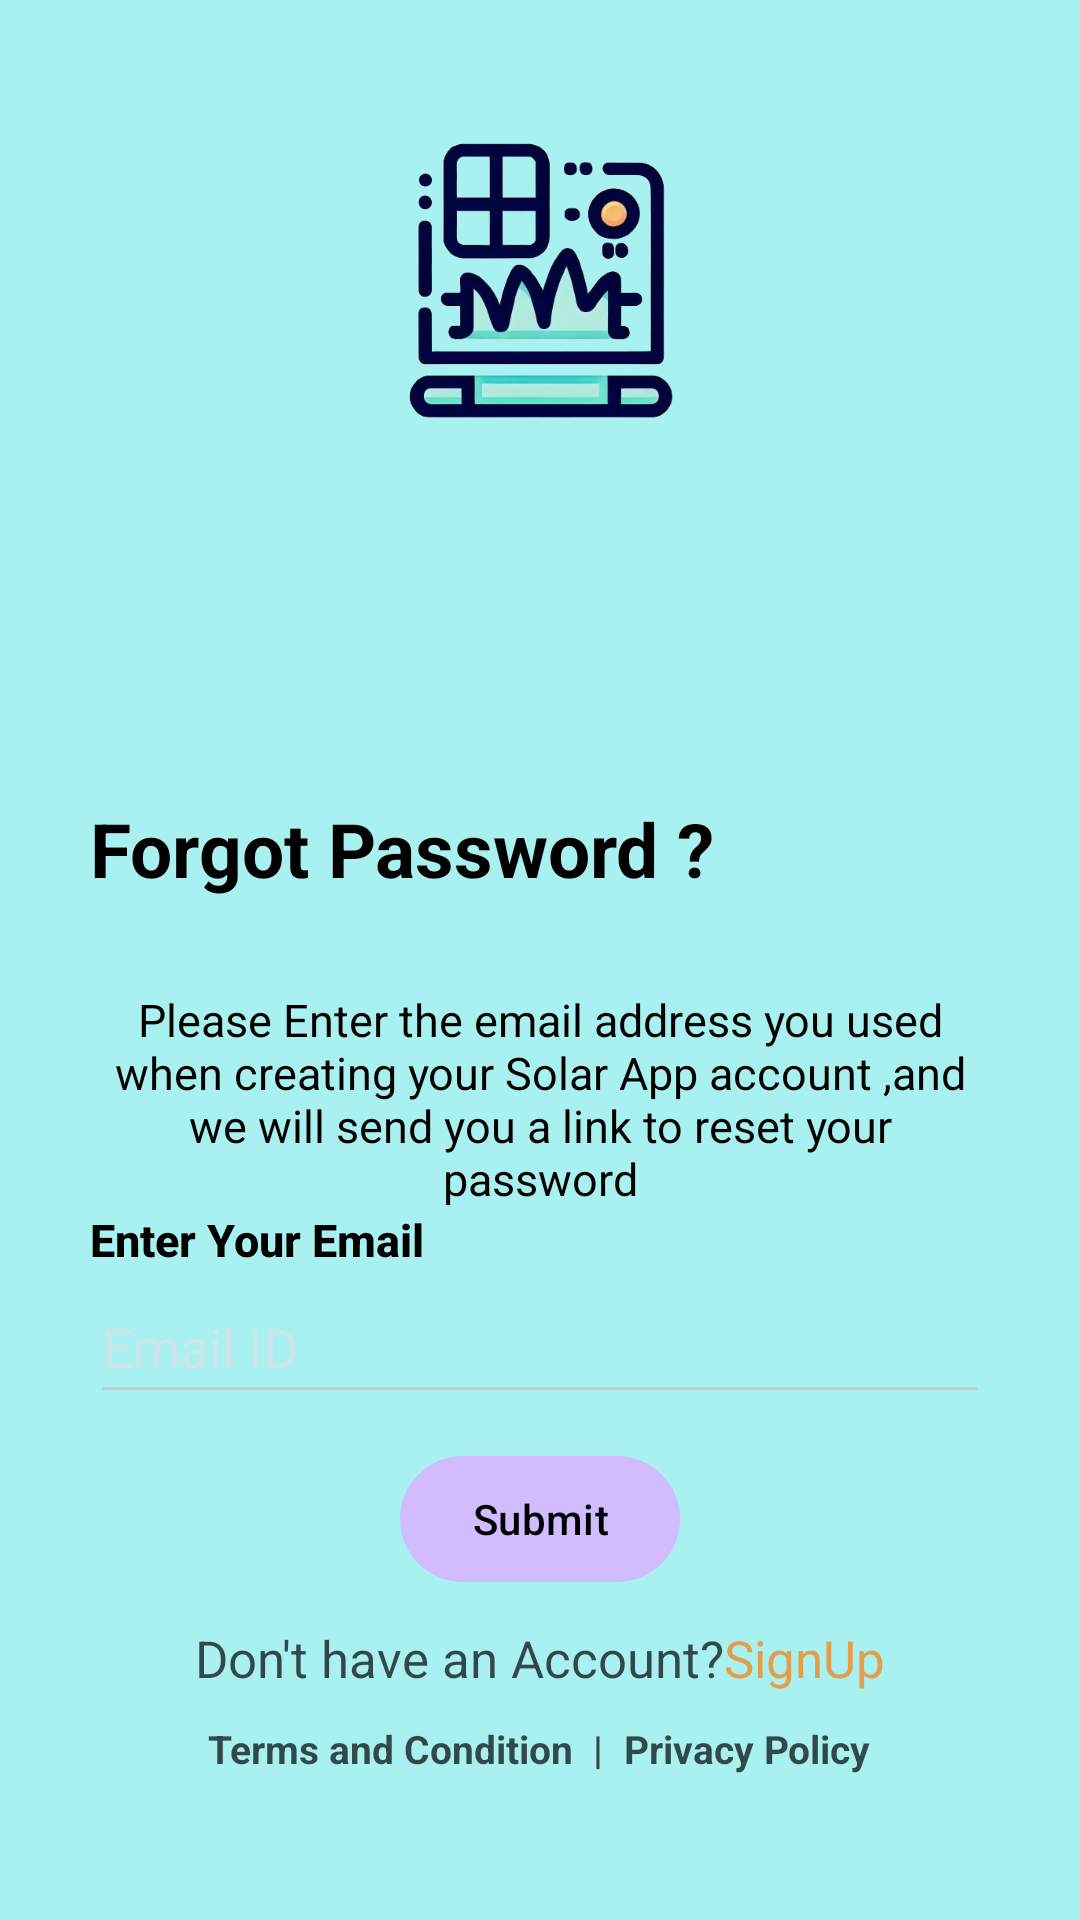

Screen size 1080 × 1920. Icon name, then its center in pixels as (x,y):
solarremovebg: (541,280)
